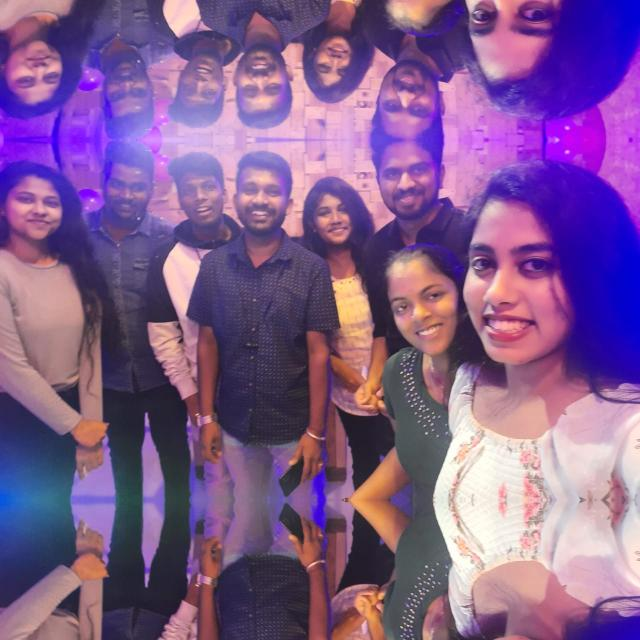person: (463, 163, 612, 479), (0, 156, 92, 460), (216, 148, 308, 418), (364, 233, 474, 447), (88, 140, 168, 368), (463, 521, 612, 640), (298, 172, 382, 382), (463, 0, 612, 117), (216, 0, 307, 131), (0, 0, 92, 124), (87, 0, 168, 140), (364, 140, 458, 246), (364, 34, 458, 140), (164, 144, 230, 290), (364, 553, 473, 640), (0, 540, 92, 640), (298, 0, 381, 108), (164, 0, 229, 136), (216, 582, 307, 640), (364, 0, 473, 47), (298, 618, 381, 640), (87, 632, 168, 640)
